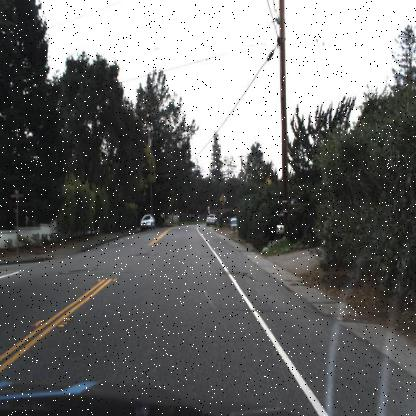car: (140, 213, 156, 231), (206, 213, 218, 226)
